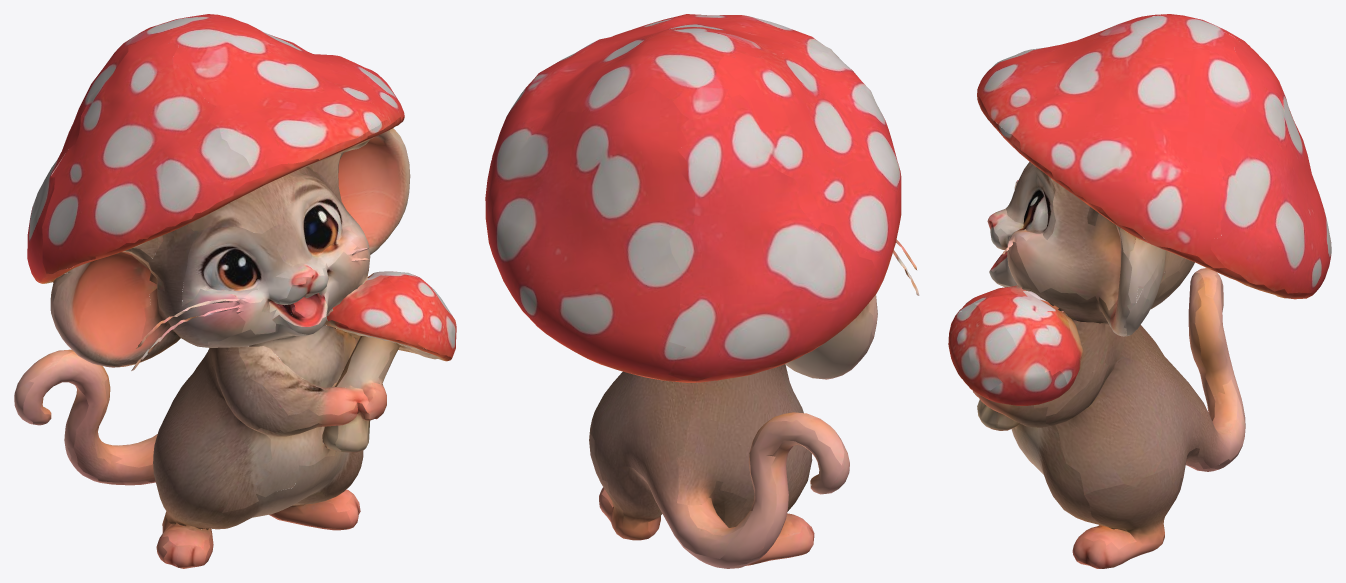
File: mushmouse.glb
3 renders of one model, left to right at view 1: azimuth 30°, elevation 25°; view 2: azimuth 150°, elevation 25°; view 3: azimuth 270°, elevation 25°, orthographic. The views are drawn at different scales.
Visible parts, largest first — view 1: textured_mesh.obj; view 2: textured_mesh.obj; view 3: textured_mesh.obj.
Part boxes in pixels (<box>): textured_mesh.obj: <box>14,14,456,568</box>; textured_mesh.obj: <box>485,14,919,568</box>; textured_mesh.obj: <box>948,14,1331,568</box>.
Size of the model in its own units: 0.749 by 1 by 0.712.
1 material, 1 textured.
